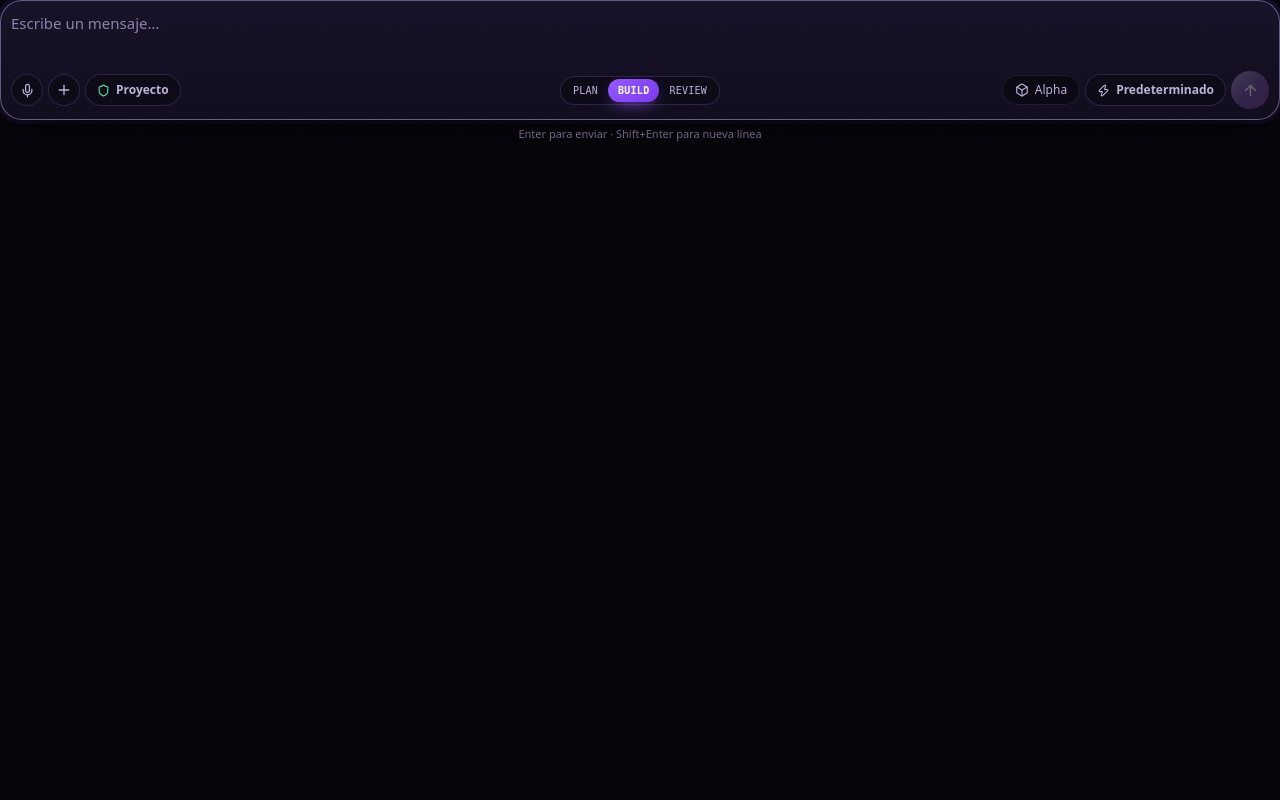
Test: groups models by provider and closes each selector immediately on selection
The width and height of the screenshot is (1280, 800).
Click the button "Alpha": coordinates (1041, 90) [1002, 75, 1080, 105]
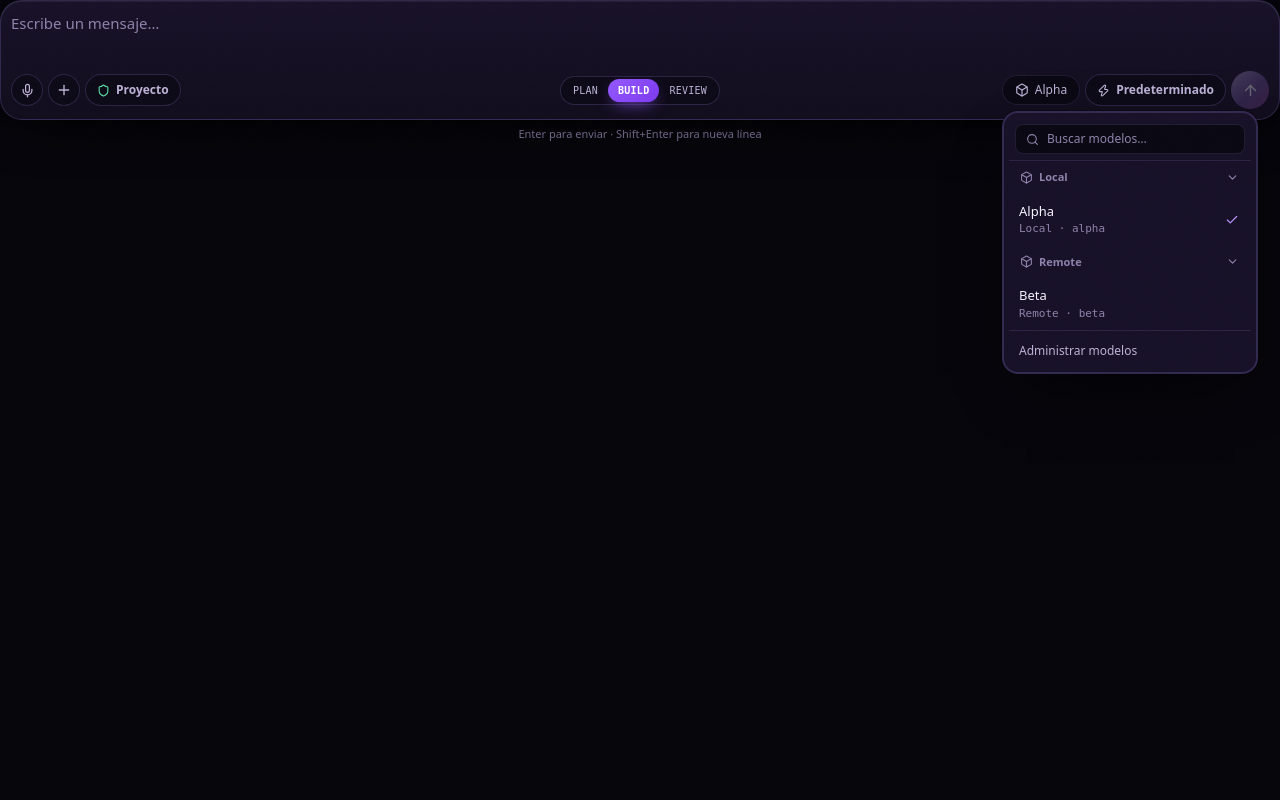
Expected: the heading "Local" is shown, [1009, 161, 1249, 194]
Expected: the heading "Remote" is shown, [1009, 246, 1249, 278]
Click the button "Beta Remote · beta": coordinates (1129, 304) [1009, 278, 1249, 330]
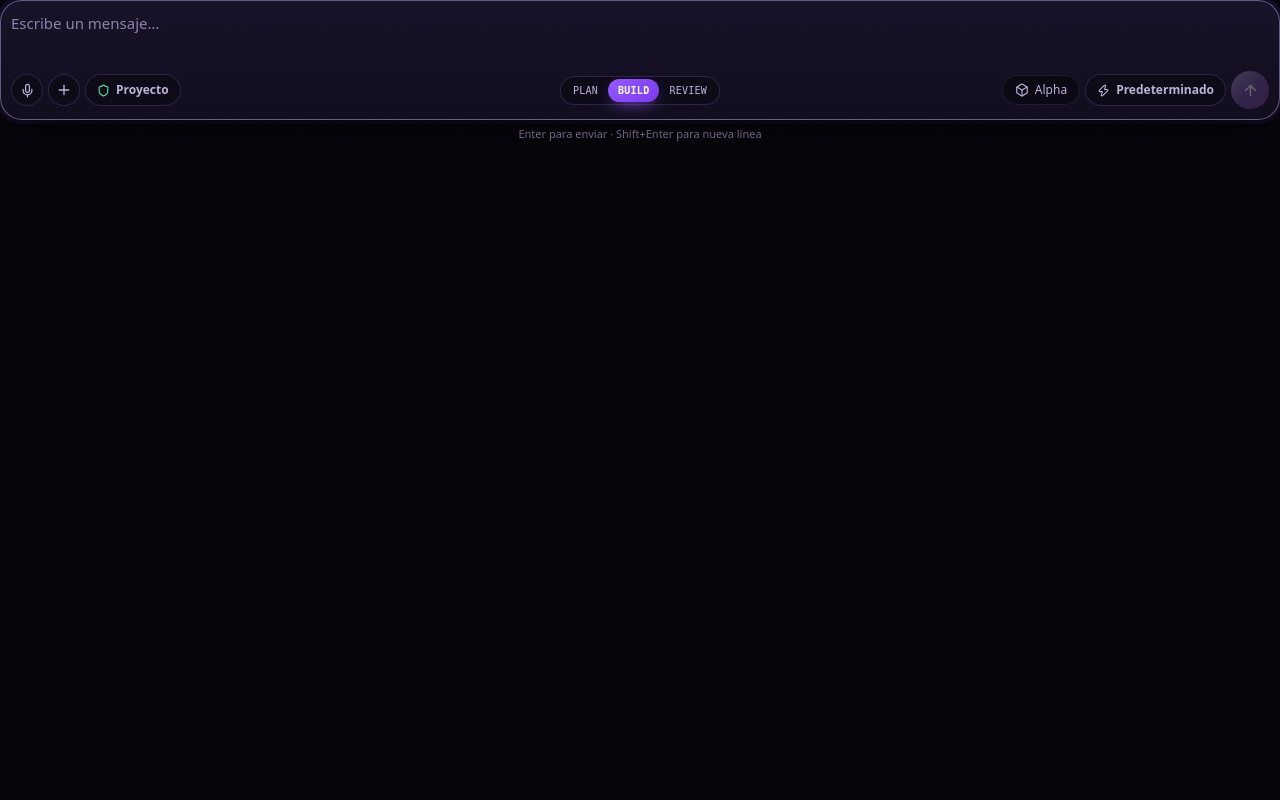
Expected: the dialog is gone
Click the button titled "Permisos de este chat": coordinates (133, 90) [85, 74, 181, 106]
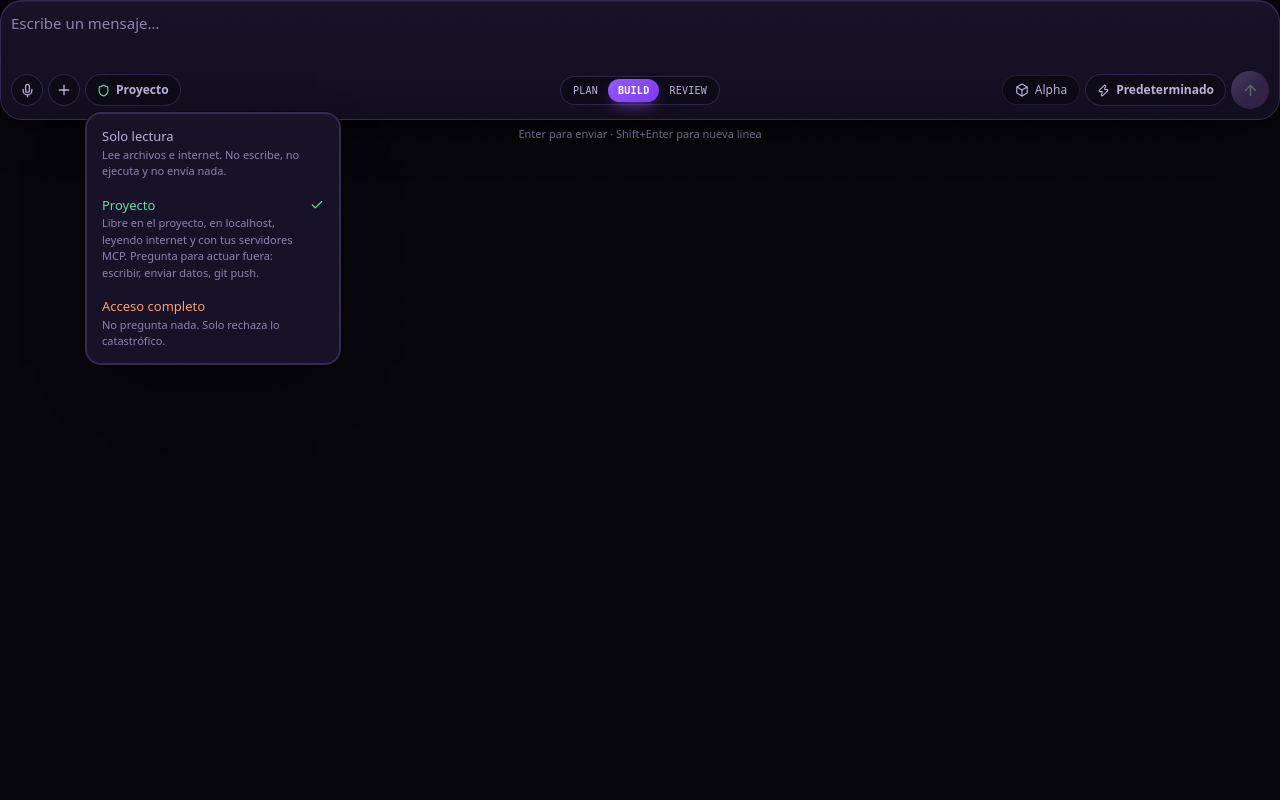
Click the button "Solo lectura": coordinates (213, 153) [92, 119, 334, 188]
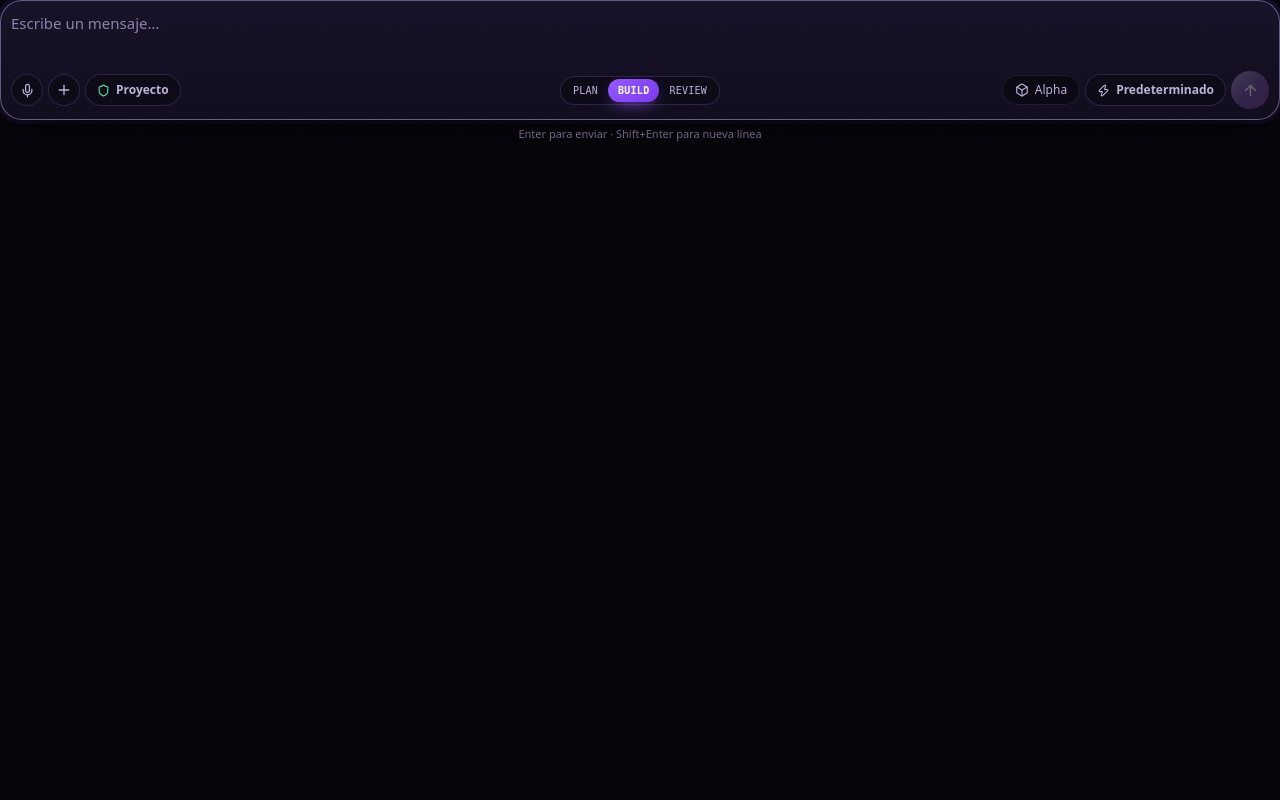
Expected: the dialog is gone
Click the button titled "Razonamiento": coordinates (1156, 90) [1085, 74, 1226, 106]
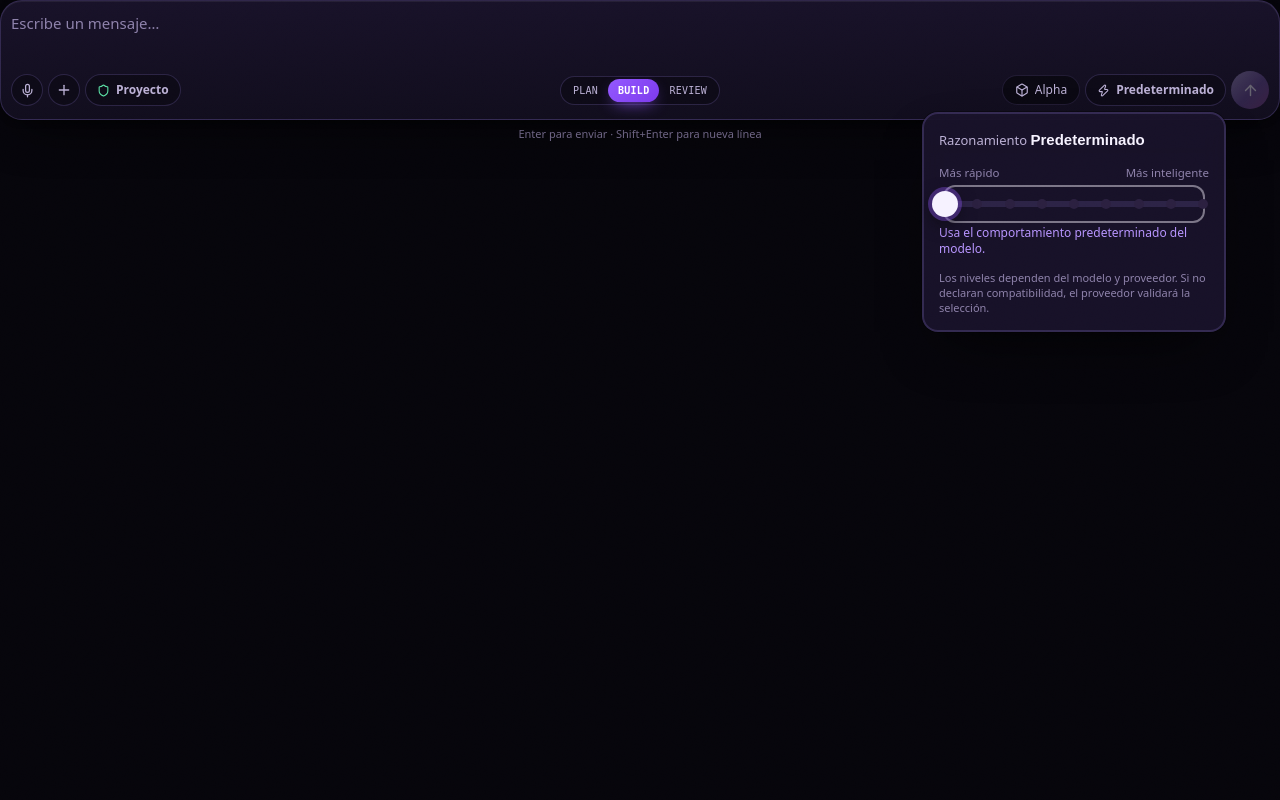
Press Arrowright
Press End
Press Escape
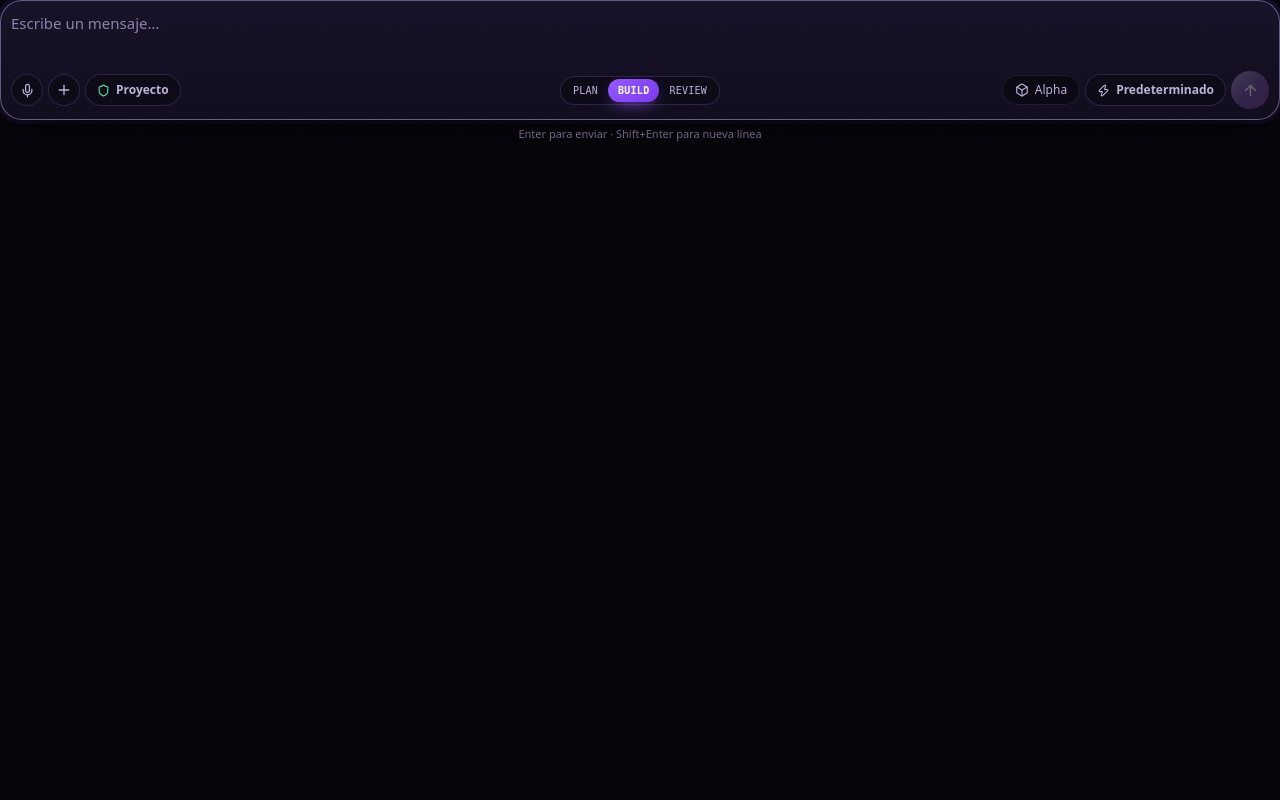
Expected: the dialog is gone
